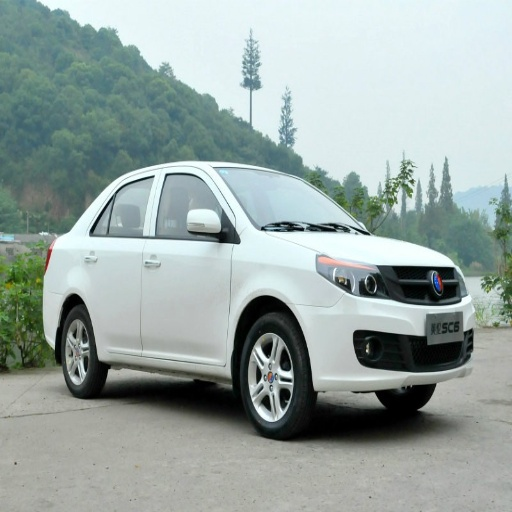front_bumper: (300, 265, 476, 390)
front_right_door: (142, 171, 233, 364)
front_right_light: (317, 256, 386, 296)
